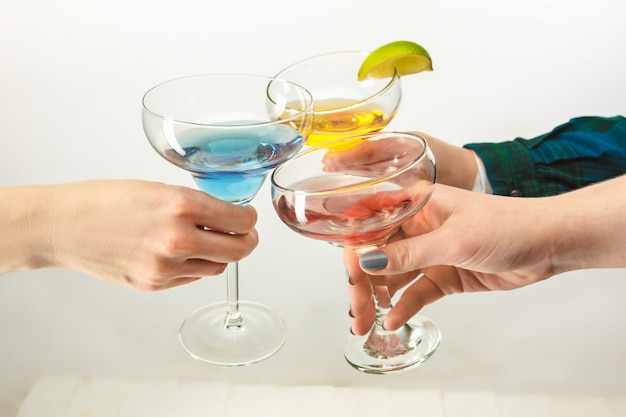alcohol: (142, 66, 313, 368), (269, 130, 451, 374), (264, 47, 398, 157)
